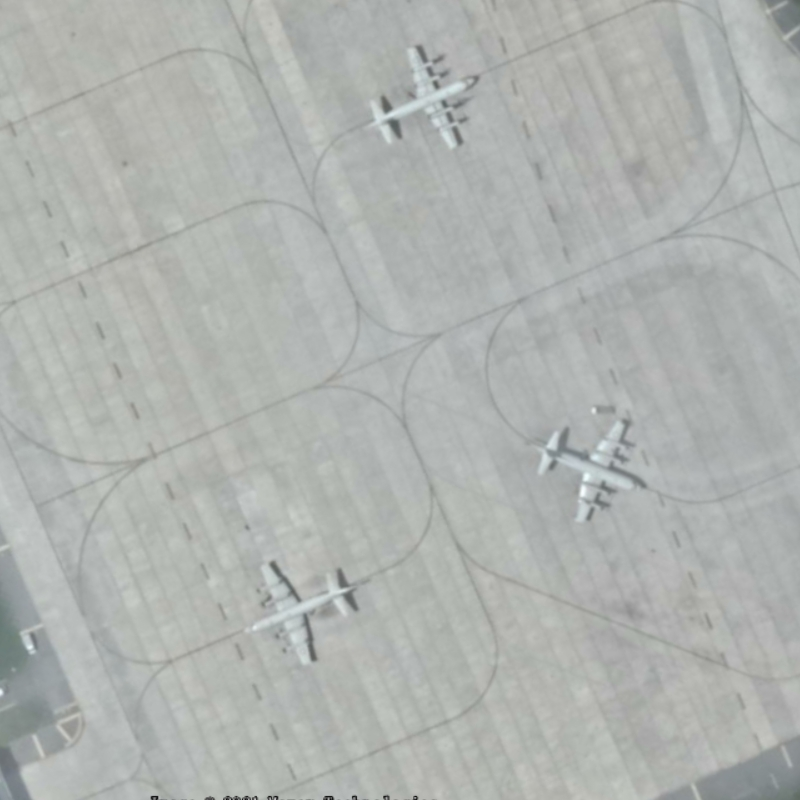A9: (520, 411, 651, 528), (239, 552, 366, 667), (354, 40, 482, 154)
